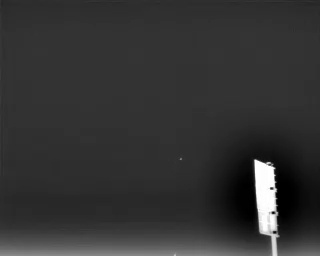BIRD: (178, 155, 184, 163)
